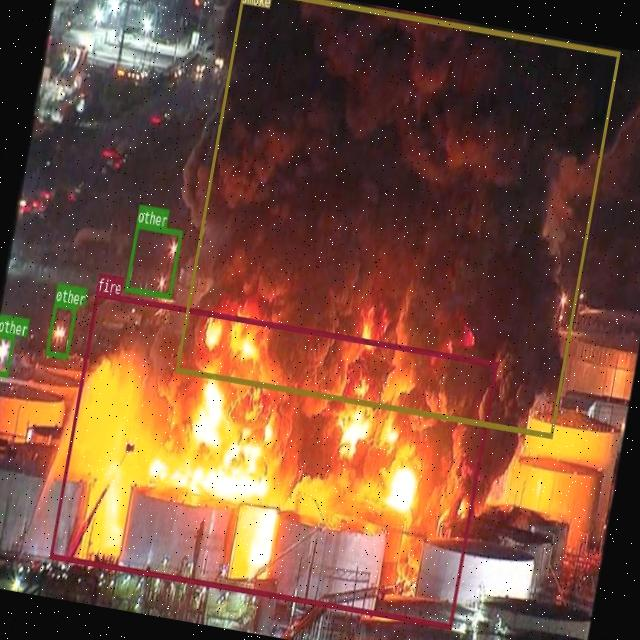fire: (49, 290, 498, 628)
smoke: (174, 0, 618, 436)
